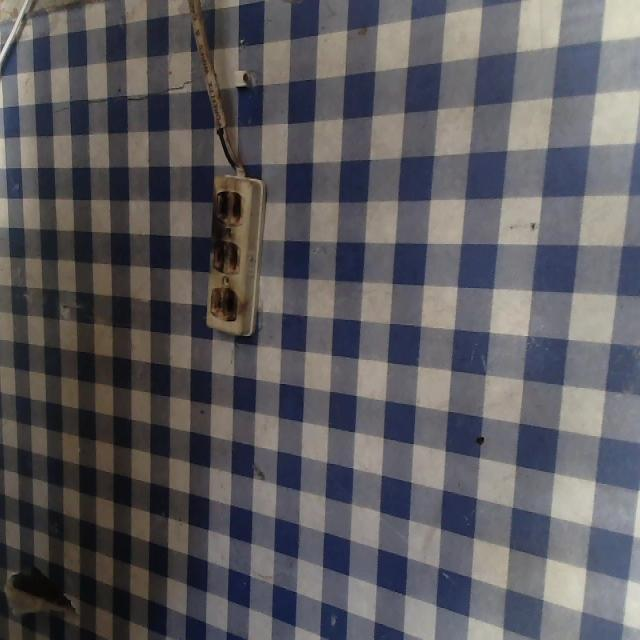-: (199, 276, 248, 329), (207, 231, 254, 277), (208, 182, 251, 230)
